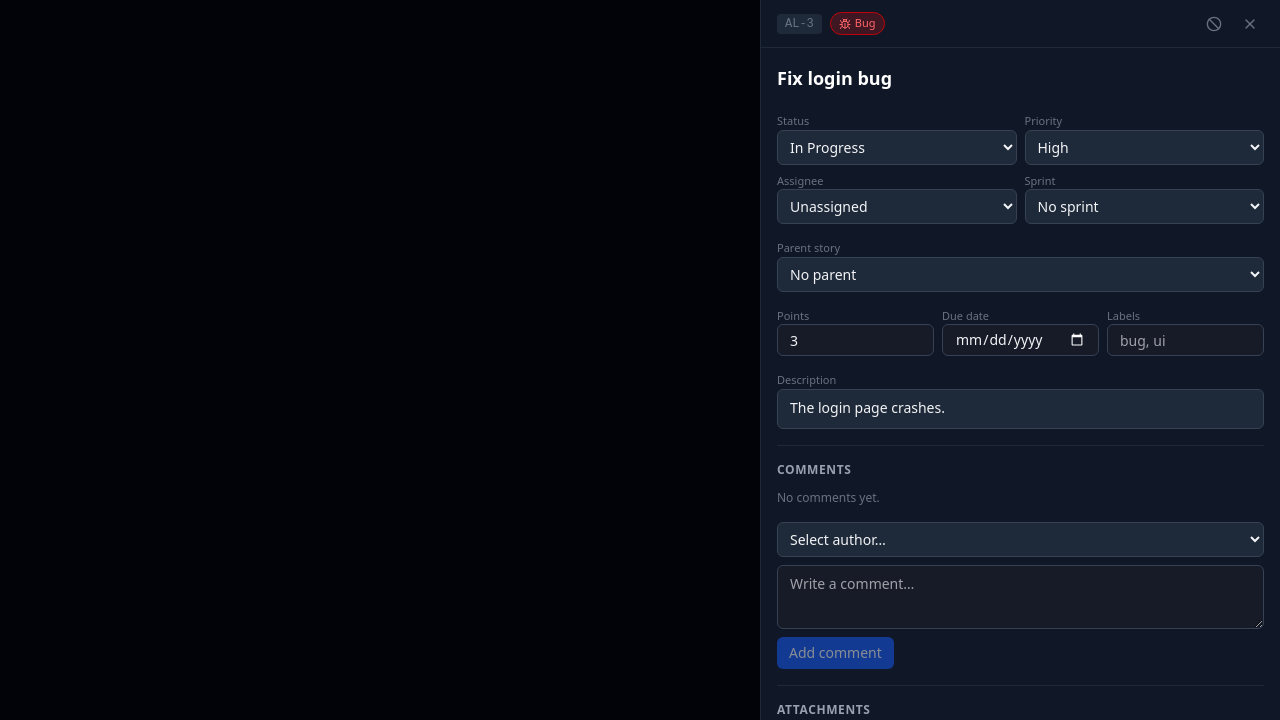
Test: TaskDetailPanel — cancel task (FB-3, FB-98) › Cancel task sets status canceled, never deletes, opens no dialog and keeps the panel open
This screenshot has width=1280, height=720.
Check: the field showing "Fix login bug" is shown, box [777, 64, 1264, 97]
Click the button named "cancel subtask" at point(1214, 24), box [1200, 10, 1228, 38]
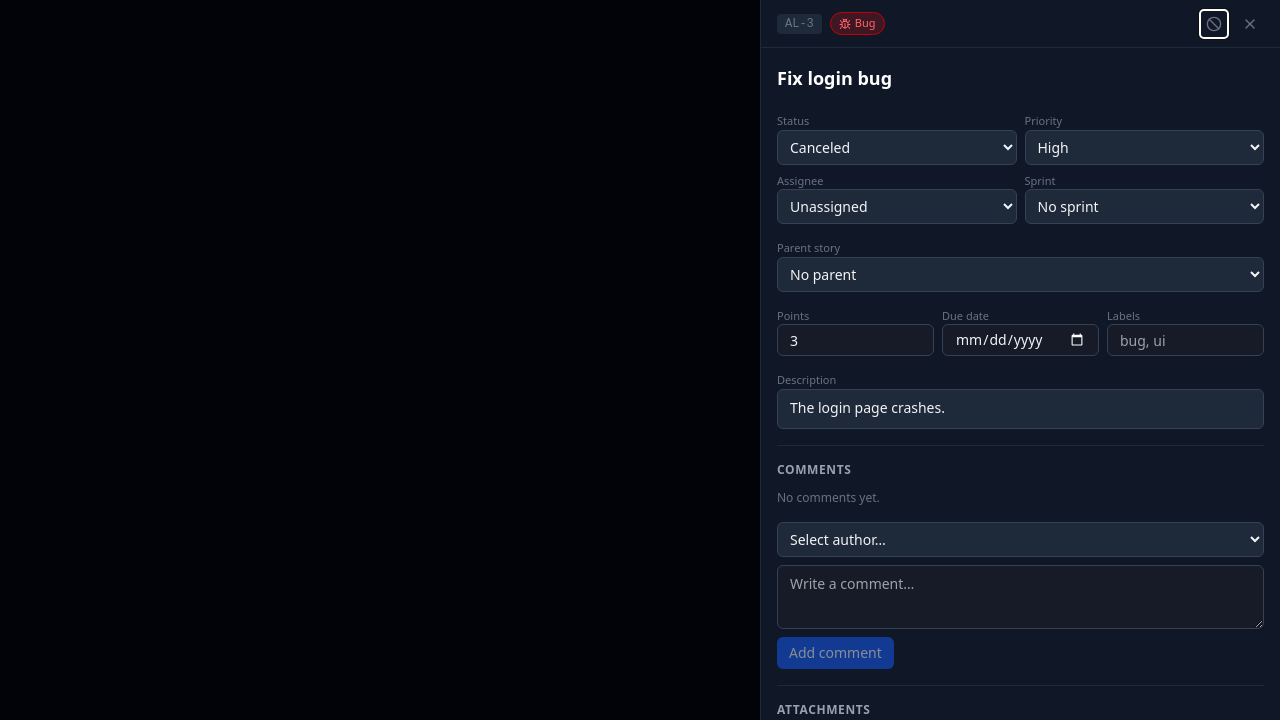
Check: the dropdown named "Status" shows "Canceled", box [777, 130, 1016, 164]
